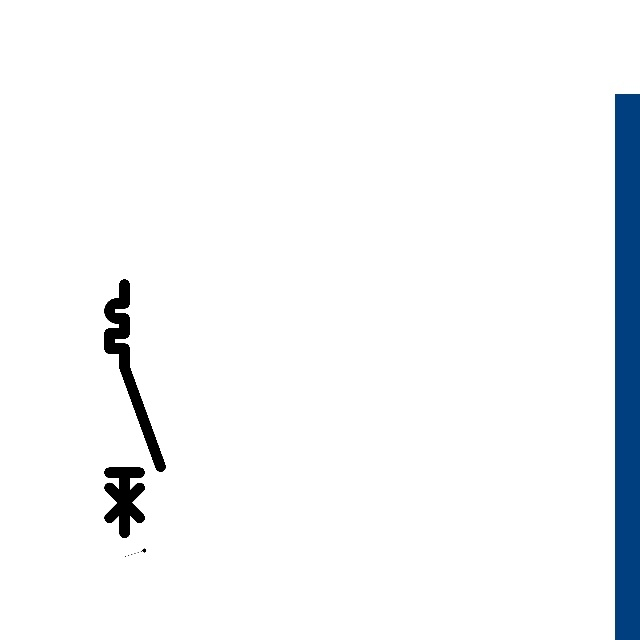interruptor_termomagnetico: (103, 278, 167, 540)
